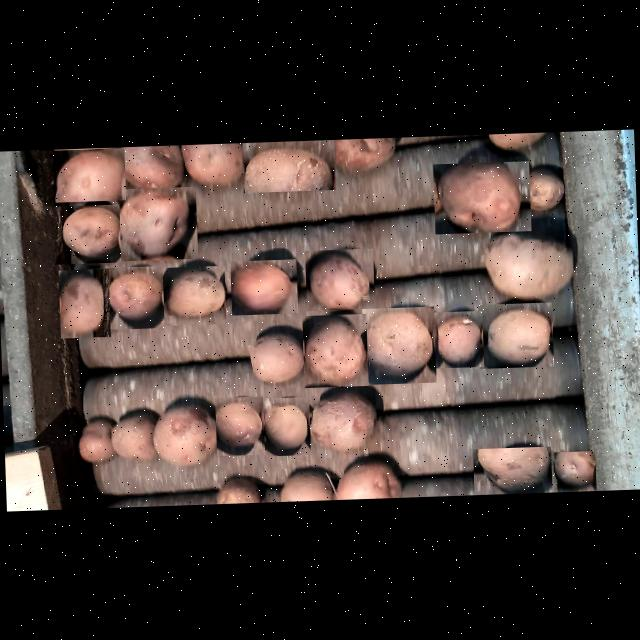Diseased-fungal potato: (476, 228, 580, 303), (433, 161, 531, 234), (116, 186, 198, 261), (362, 306, 436, 384), (478, 302, 554, 368), (307, 388, 380, 456), (148, 400, 218, 470), (242, 140, 336, 192), (302, 314, 368, 388), (42, 148, 126, 202), (304, 248, 374, 310), (53, 204, 121, 264), (160, 266, 226, 326), (472, 446, 552, 495), (230, 259, 298, 315), (246, 325, 308, 386), (106, 266, 164, 330), (58, 268, 110, 338), (106, 407, 160, 466), (432, 310, 484, 368), (214, 396, 264, 456), (262, 396, 310, 456), (524, 167, 569, 217), (72, 414, 111, 466), (551, 450, 596, 492)
